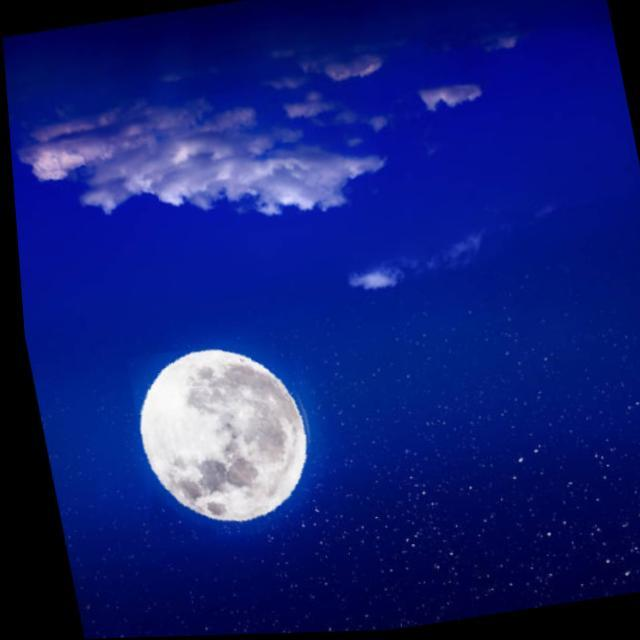moon: (118, 333, 326, 547)
